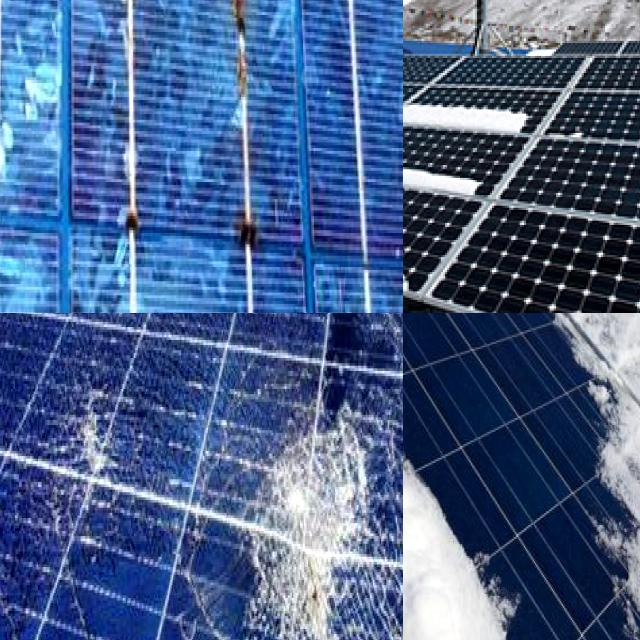hotspot: (202, 381, 377, 640), (57, 369, 129, 489)
panel: (403, 445, 504, 640), (403, 313, 456, 640), (569, 313, 640, 518), (403, 85, 533, 161), (403, 208, 489, 307), (529, 313, 640, 383), (403, 141, 486, 202), (403, 102, 454, 178), (403, 313, 416, 534), (403, 74, 455, 126), (403, 57, 431, 148), (534, 116, 596, 152), (403, 201, 438, 231)
shadow: (204, 0, 284, 272), (96, 0, 149, 255)
